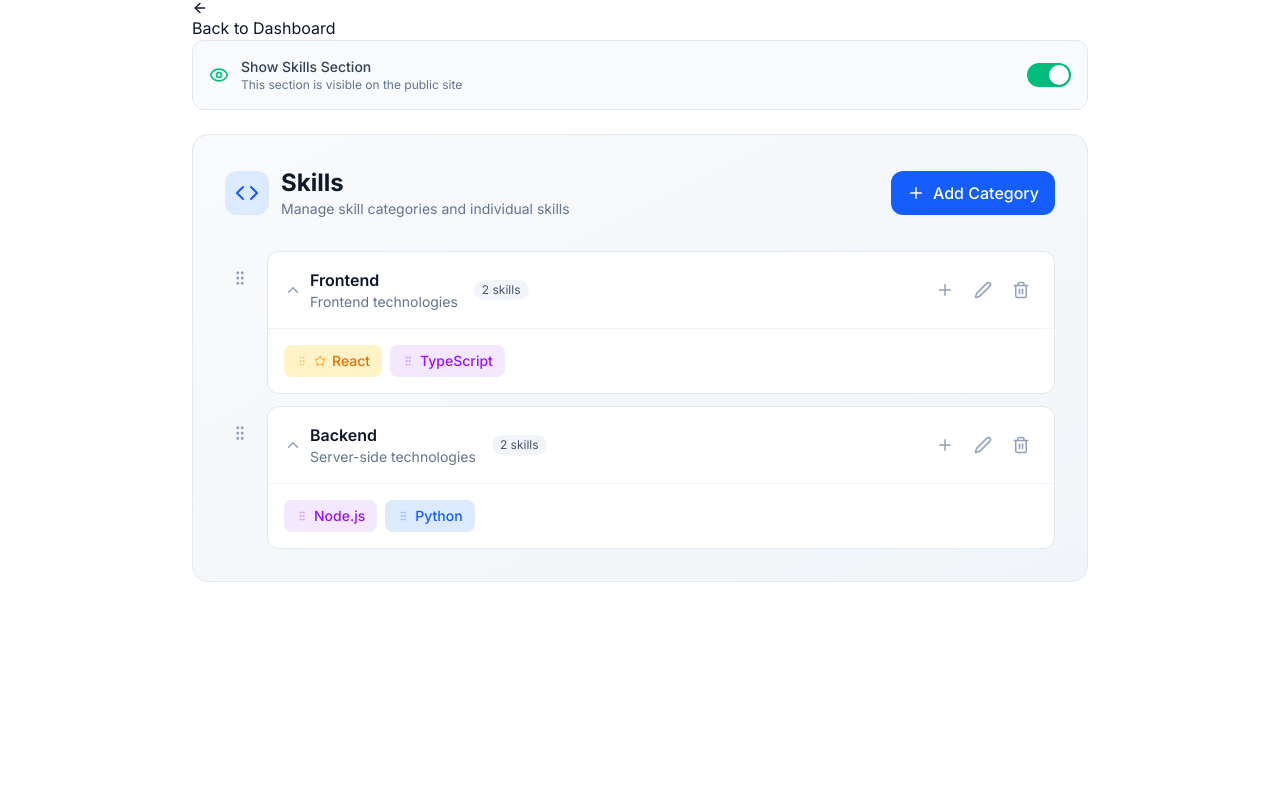
Test: SkillsEditor › delete category › opens confirmation dialog when delete category is clicked
// Click delete button for Frontend category
Click the button named "Delete Frontend" at (1021, 290), box [1004,273,1038,307]
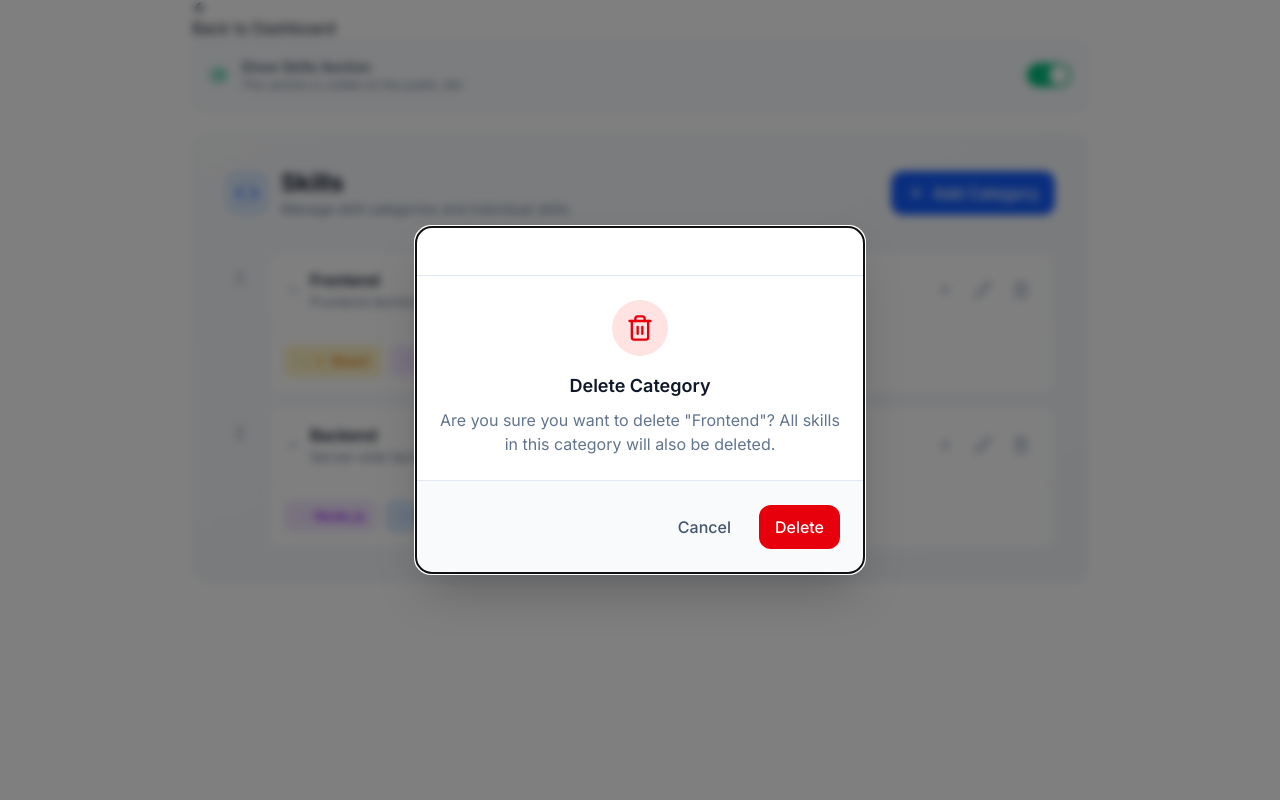
Result: the heading "Delete Category" is shown at [570,375,710,396]
Result: the text "Are you sure you want to delete \"Frontend\"" is shown at [440,410,840,454]
